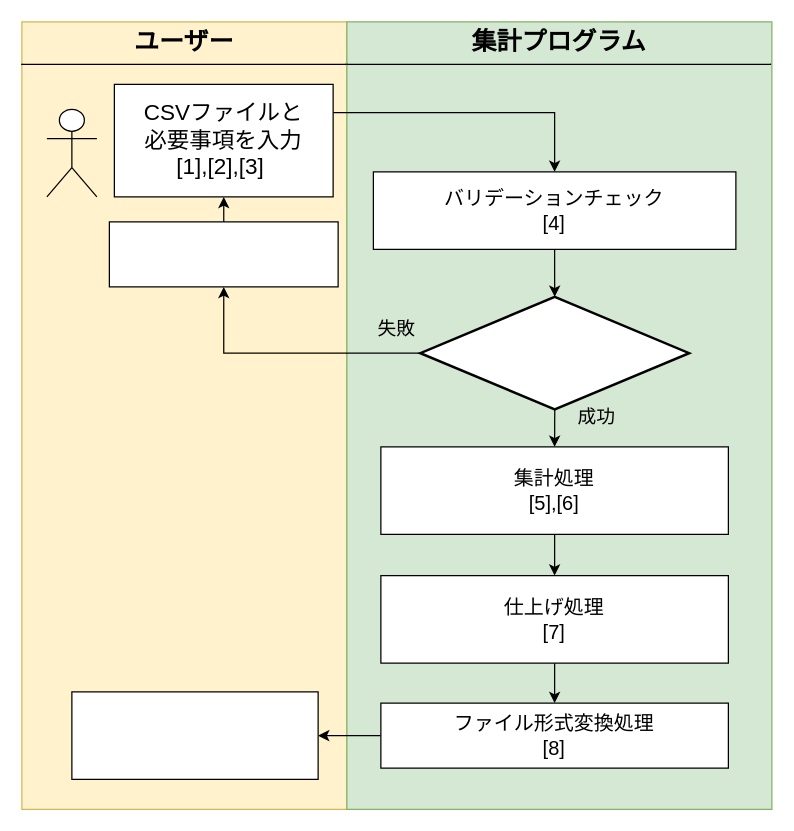
Image size: 794x831. Some labels were removed from this diagram. Here are the shapes that lost their labels. From the top down, the box of each, then its label:
(108, 221, 338, 287): エラー通知＆やり直し [5]
(418, 295, 690, 410): チェック結果 [5]
(71, 691, 318, 779): 集計済みファイル出力 [9],[10 ]
